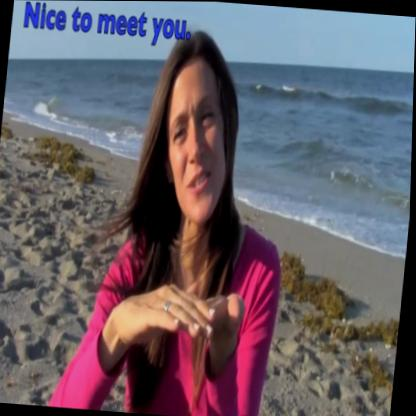NiceToMeetYou: (109, 250, 258, 361)
